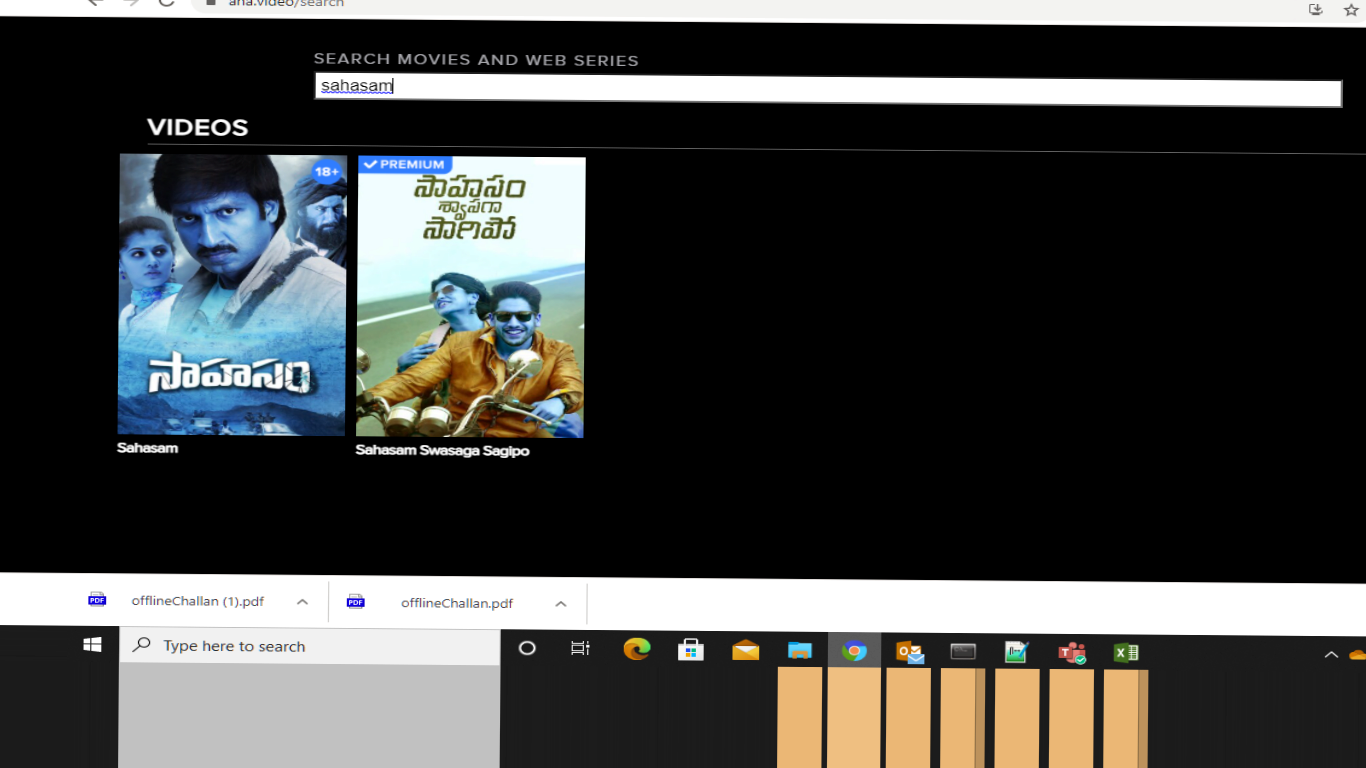resultsfound: (135, 103, 422, 146)
searchtextbox: (298, 33, 1357, 111)
